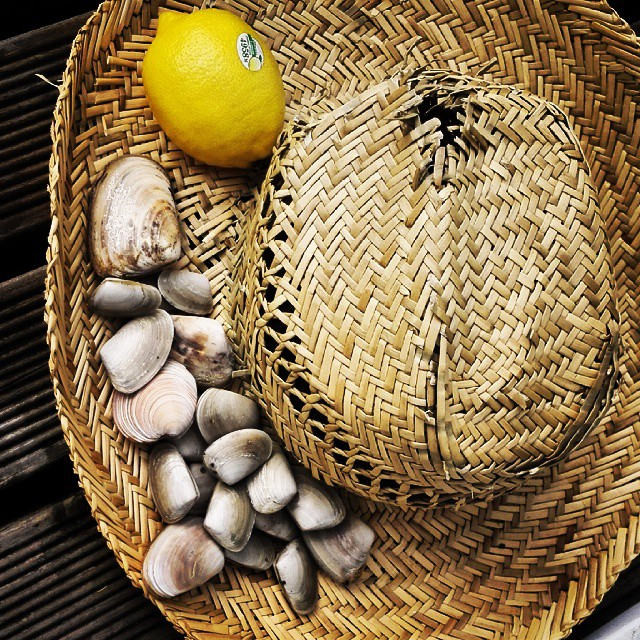tuatua: (138, 517, 227, 598), (98, 308, 176, 393), (304, 511, 378, 586), (173, 311, 233, 385), (148, 438, 200, 522), (201, 428, 273, 484), (200, 480, 254, 553), (273, 537, 321, 617), (195, 384, 262, 438), (290, 475, 348, 535), (156, 267, 219, 320), (248, 450, 298, 516), (85, 274, 166, 313)
